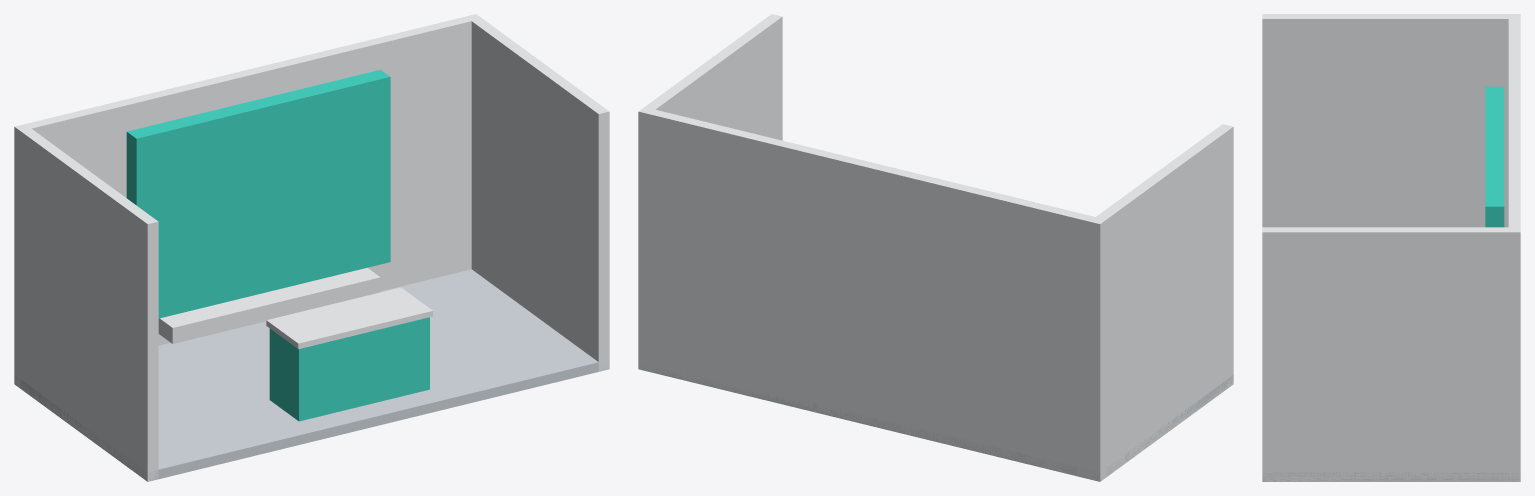
3 views of the same model, side by side, from view 1: azimuth 30°, elevation 25°; view 2: azimuth 150°, elevation 25°; view 3: azimuth 270°, elevation 25° (orthographic). The views are drawn at different scales.
Parts seen in each view (by area): view 1: Exhibition Booth Concept; view 2: Exhibition Booth Concept; view 3: Exhibition Booth Concept.
Boxes of the visible parts, box(x1,y1,x2,y2) form: Exhibition Booth Concept: box(14, 14, 609, 481); Exhibition Booth Concept: box(638, 14, 1233, 481); Exhibition Booth Concept: box(1262, 14, 1520, 481).
Bounding box in the file's own units: 6 × 3.2 × 3.
